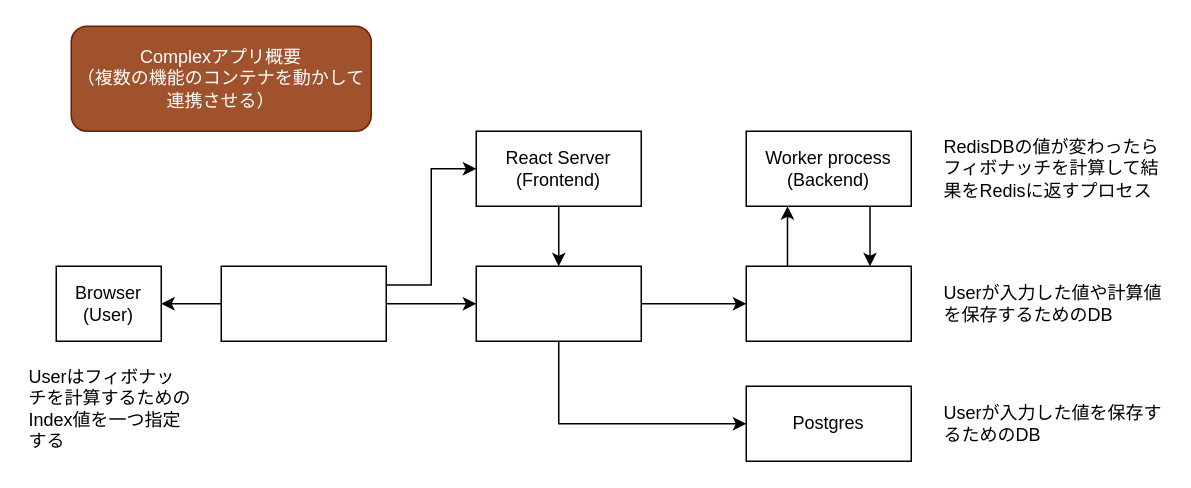
This 1191x488 diagram has some shape labels left out. Each missing label, with the centre of its shape:
Express Server (Backend): (558,303)
Nginx / /api: (303,303)
Redis: (828,303)
